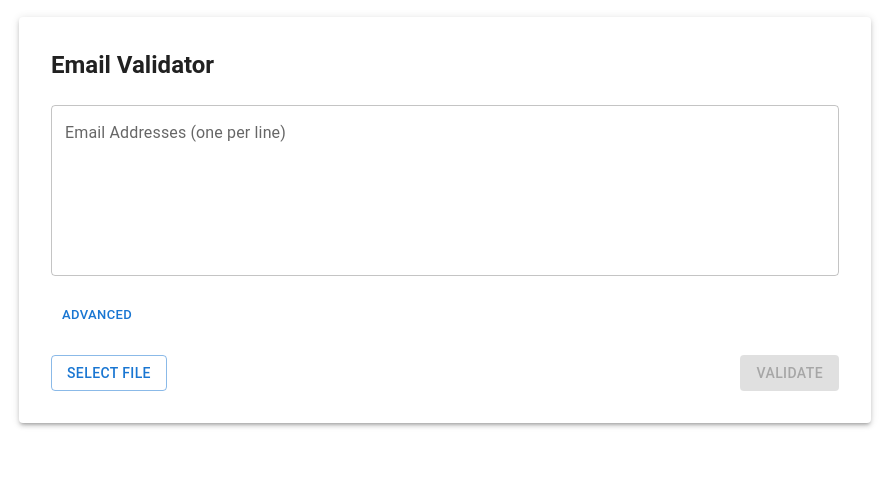
Scenario: EmailChecker › should toggle advanced options when clicked
Expected: the text "Enable SMTP verification" is not shown
Expected: the text "Enable catch-all detection" is not shown
# Click the advanced button to show options
Click the button "Advanced".
click(94, 315)  # box left=51, top=300, right=137, bottom=331
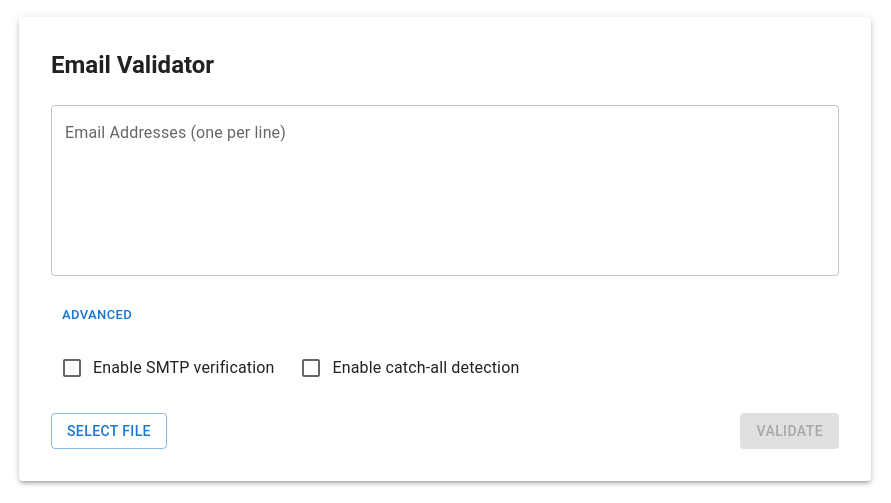
Expected: the text "Enable SMTP verification" is shown, left=93, top=356, right=274, bottom=380
Expected: the text "Enable catch-all detection" is shown, left=332, top=356, right=519, bottom=380
# Click again to hide options
Click the button "Advanced".
click(94, 315)  # box left=51, top=300, right=137, bottom=331
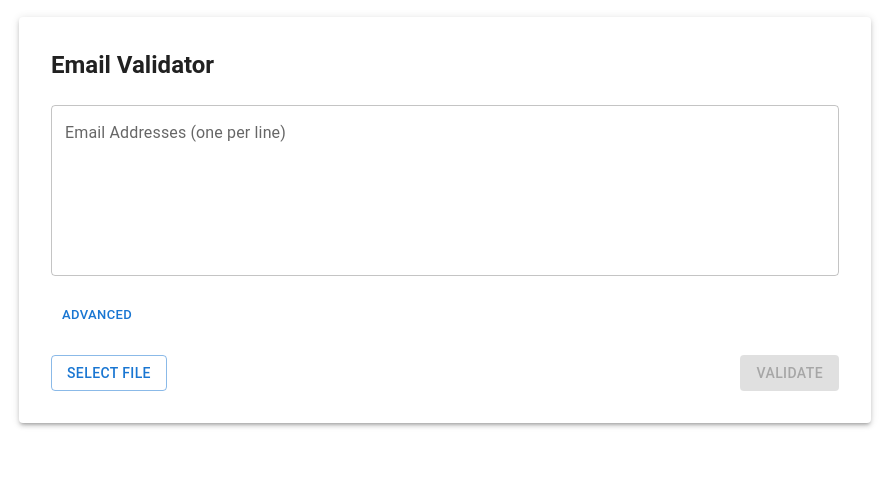
Expected: the text "Enable SMTP verification" is gone
Expected: the text "Enable catch-all detection" is gone
